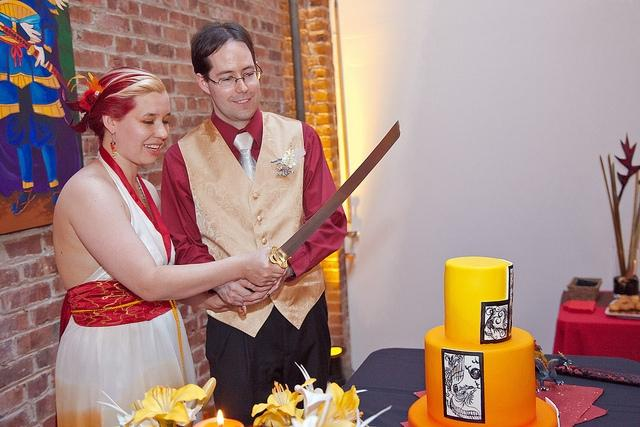strawberry: (59, 280, 186, 386), (1, 37, 41, 67)
